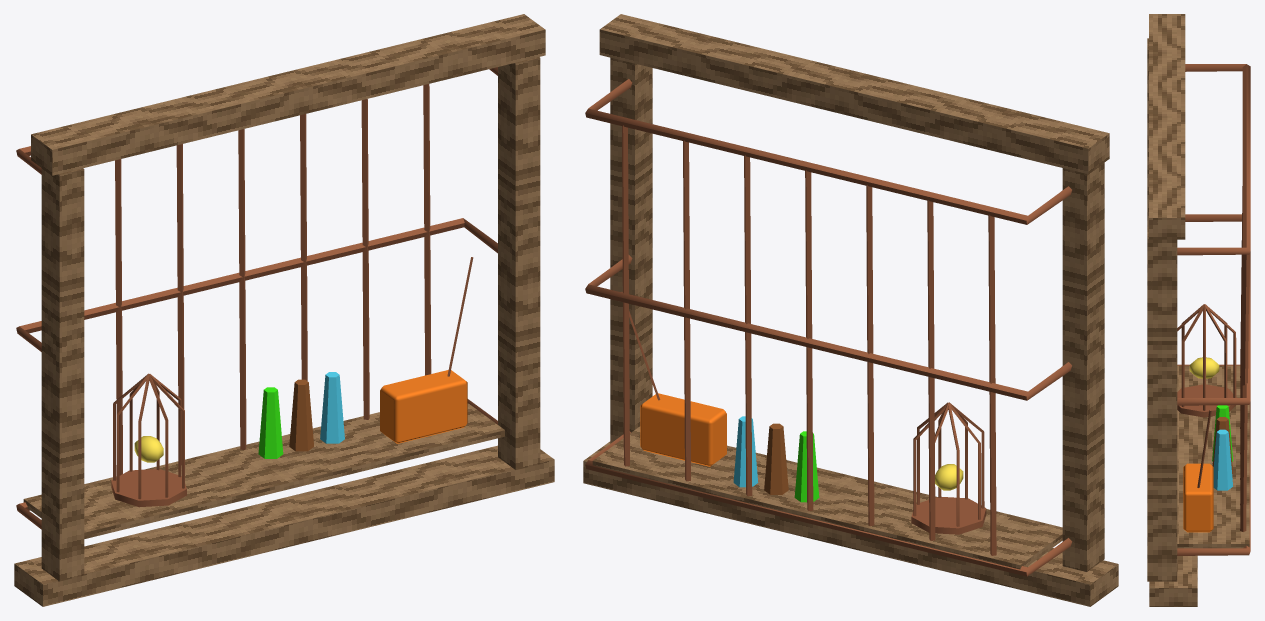
Rendered from s_cube_window_c.glb.
3 renders of one model, left to right at view 1: azimuth 30°, elevation 25°; view 2: azimuth 150°, elevation 25°; view 3: azimuth 270°, elevation 25°, orthographic. The views are drawn at different scales.
Visible parts, largest first — view 1: s_cube_window_c_mesh; view 2: s_cube_window_c_mesh; view 3: s_cube_window_c_mesh.
Boxes of the visible parts, x1=… form: s_cube_window_c_mesh: x1=14, y1=14, x2=554, y2=606; s_cube_window_c_mesh: x1=583, y1=14, x2=1118, y2=606; s_cube_window_c_mesh: x1=1147, y1=14, x2=1250, y2=606.
Size of what is drawn, in the model's own units: 1.66 by 1.41 by 0.3431.
Materials: 7 (7 with a texture image).
